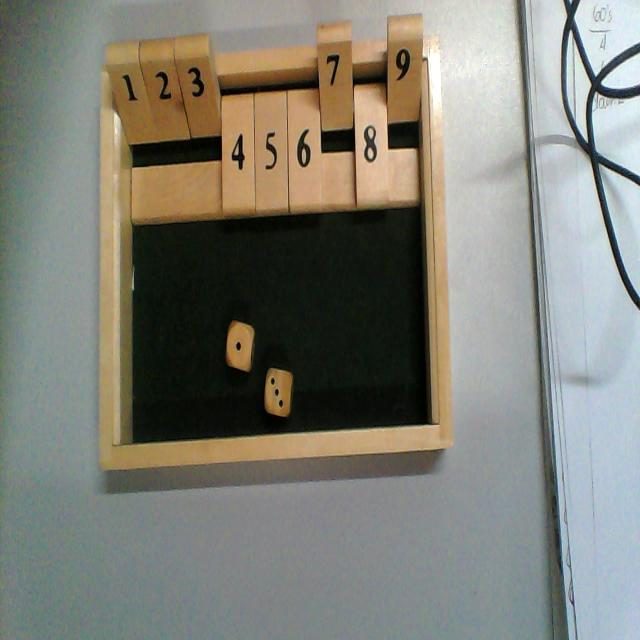1: (222, 314, 259, 380)
3: (262, 361, 297, 425)
C4: (220, 53, 254, 216)
C5: (254, 47, 290, 214)
C6: (287, 45, 323, 215)
C8: (354, 41, 387, 212)
O1: (106, 47, 156, 226)
O2: (140, 37, 189, 223)
O3: (175, 34, 222, 220)
O7: (318, 21, 355, 211)
O9: (387, 19, 423, 209)
